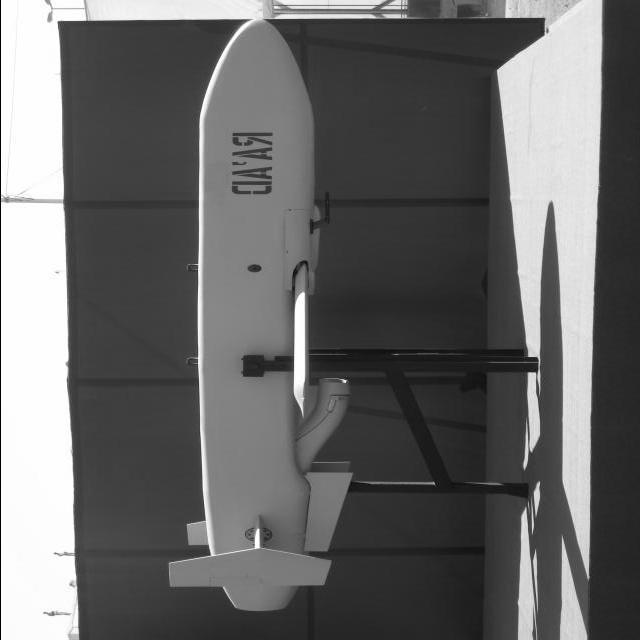missile: (173, 6, 345, 617)
